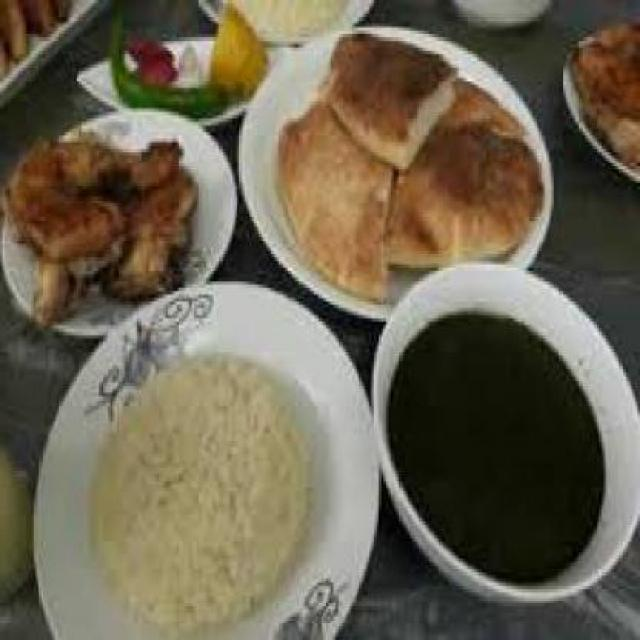fried rice: (94, 335, 309, 630)
molokhia: (389, 301, 616, 599)
